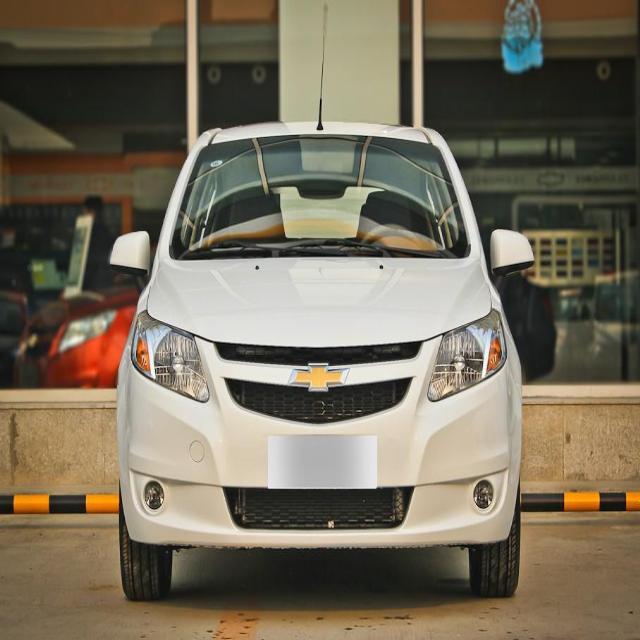front_bumper: (114, 364, 524, 549)
front_glass: (171, 133, 470, 257)
front_left_side_light: (424, 305, 509, 406)
front_left_side_mirror: (486, 227, 536, 284)
front_right_side_light: (127, 307, 213, 408)
front_right_side_mirror: (106, 229, 154, 292)
